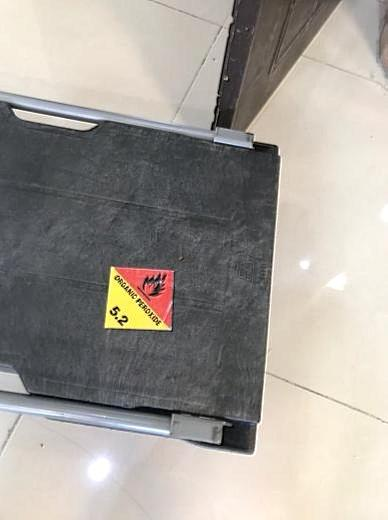organic-peroxide: (103, 267, 175, 331)
